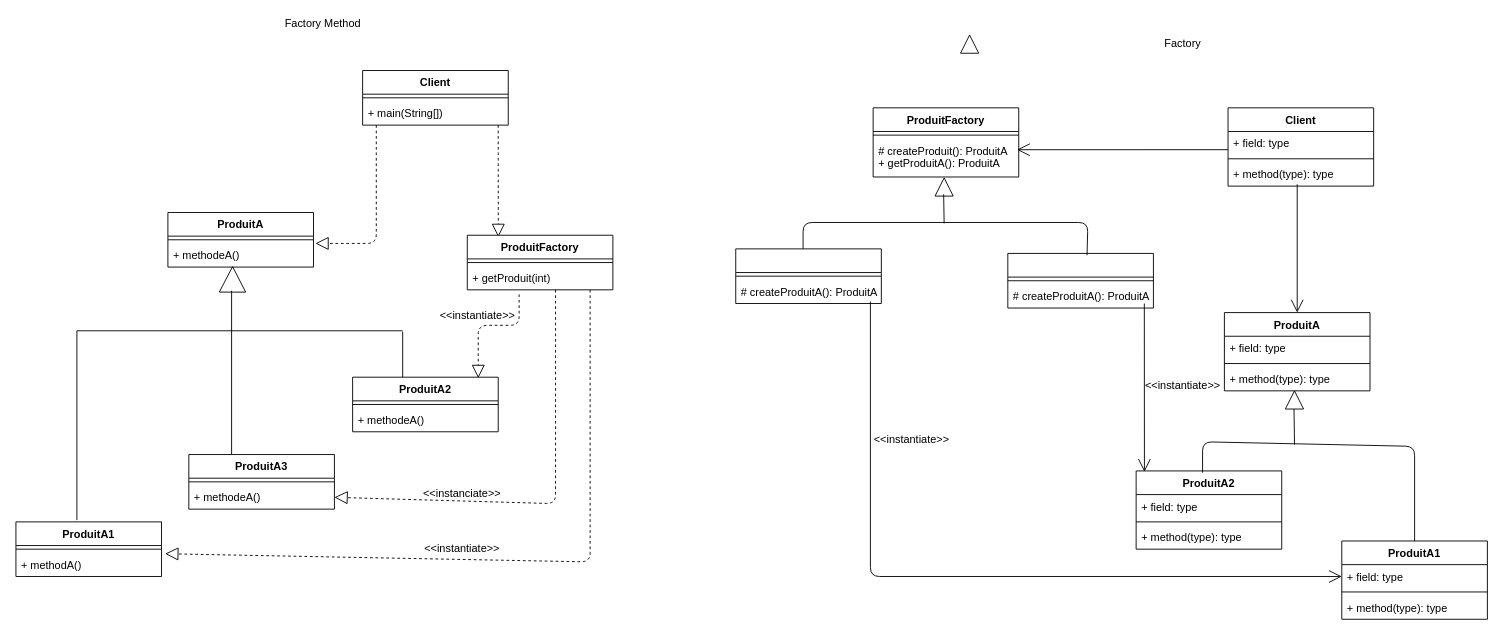
The diagram is 1503 pixels wide and 637 high, and some of its shapes have lost their labels. The shapes that lost their labels are listed below. From the top down, each one's box as (x1, y1, x2, y2) in pixels, then its label:
(735, 248, 881, 303): ProduitFactory1
(1007, 253, 1153, 308): ProduitFactory2
